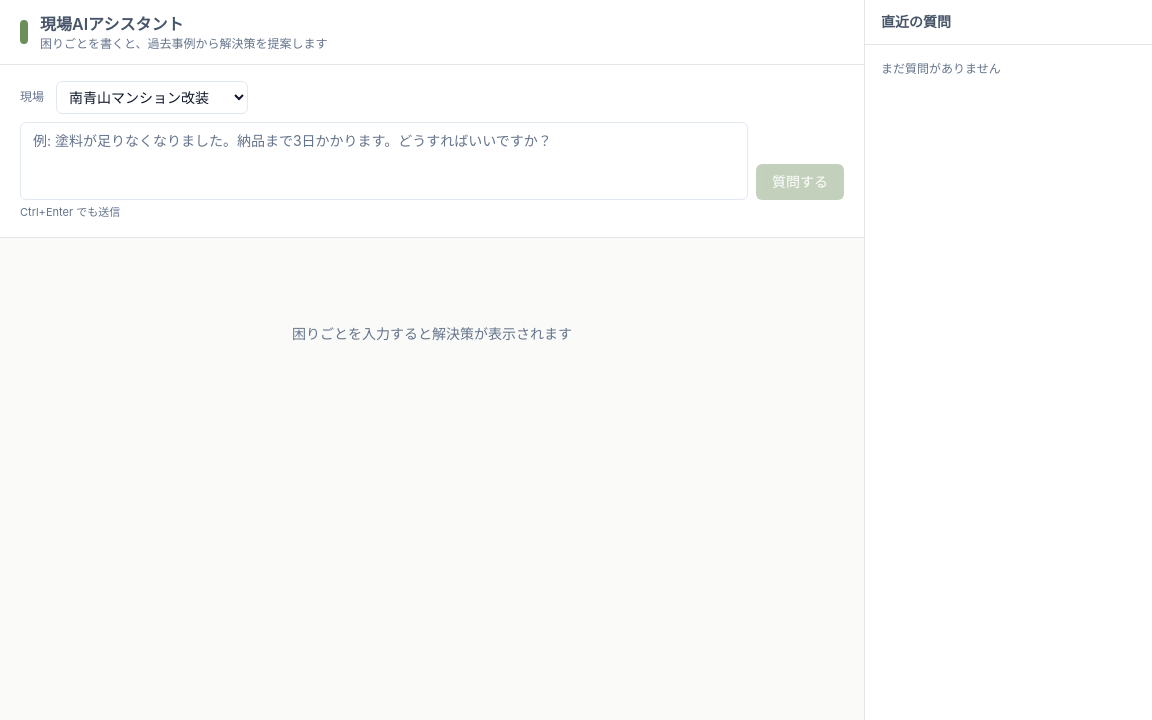
Test: SiteAssistantPage › 「質問する」後に履歴サイドバーに1件追加される
This screenshot has width=1152, height=720.
Type "材料が足りない" into the text box at (384, 161), box [20, 122, 748, 200]
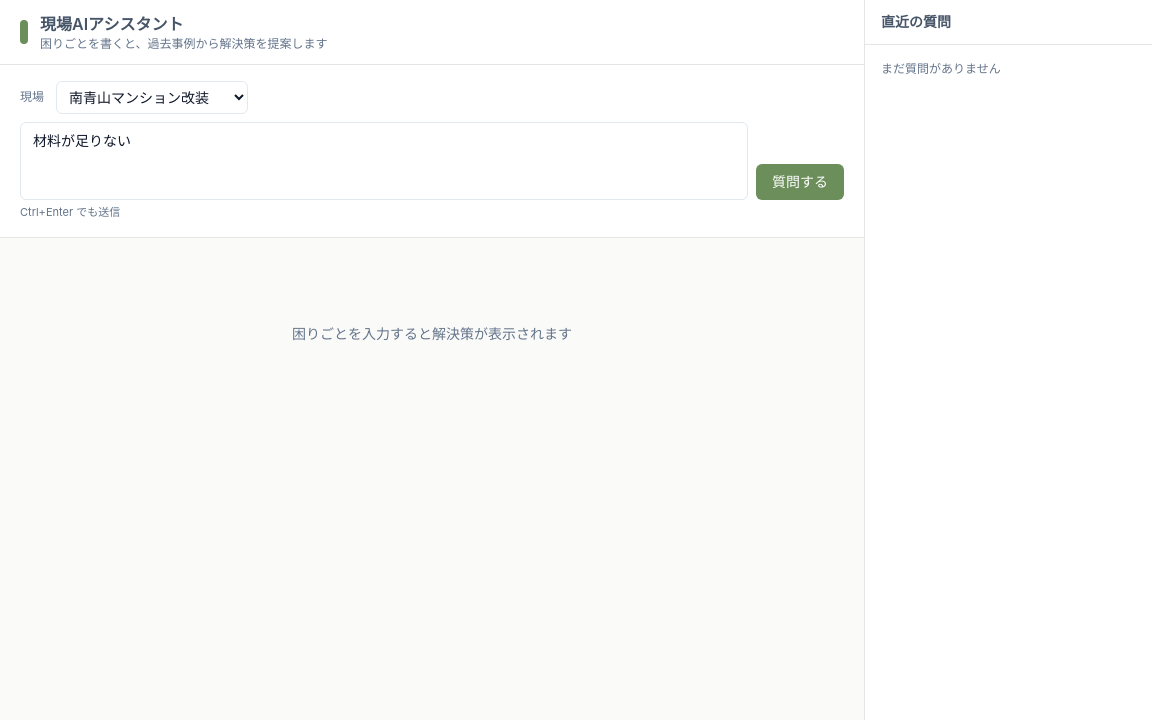
Click the button "質問する" at (800, 182), box [756, 164, 844, 200]
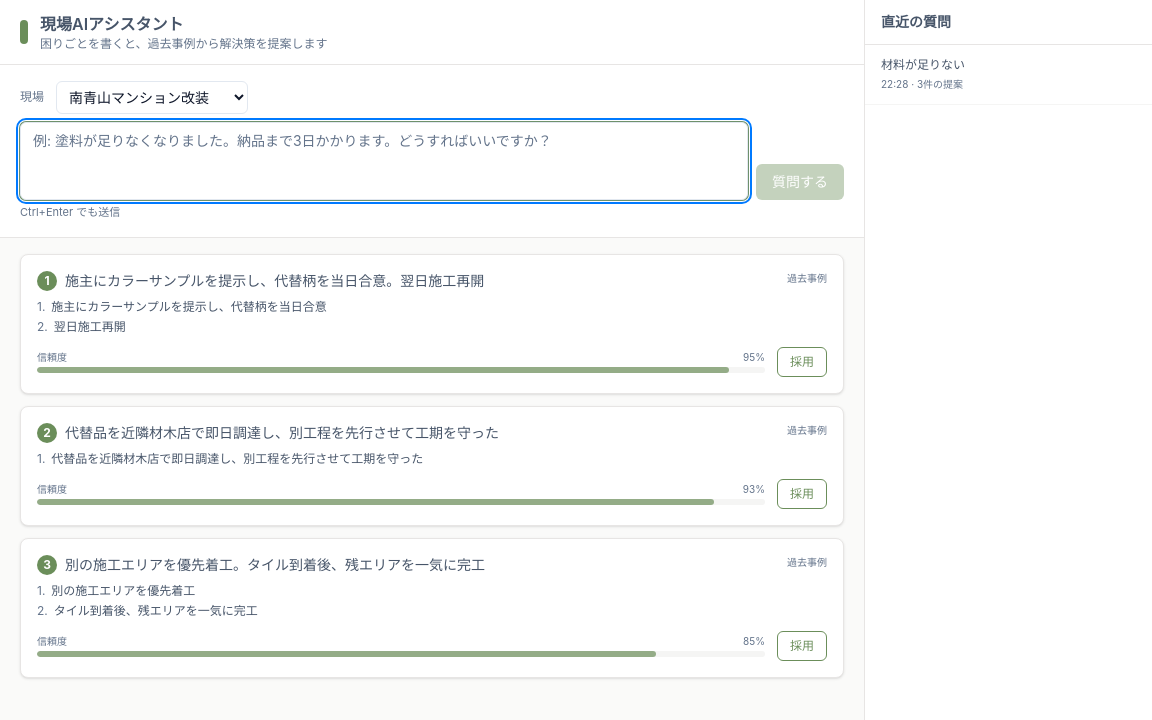
Expected: the text "まだ質問がありません" is gone
